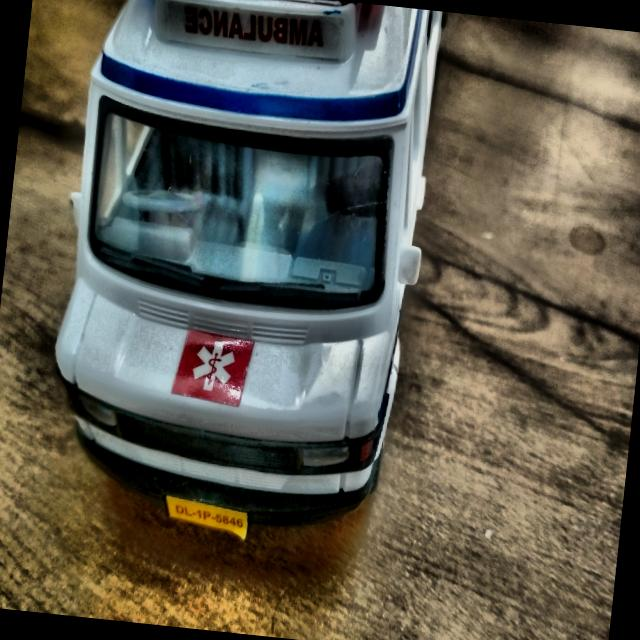Ambulance: (31, 0, 464, 568)
